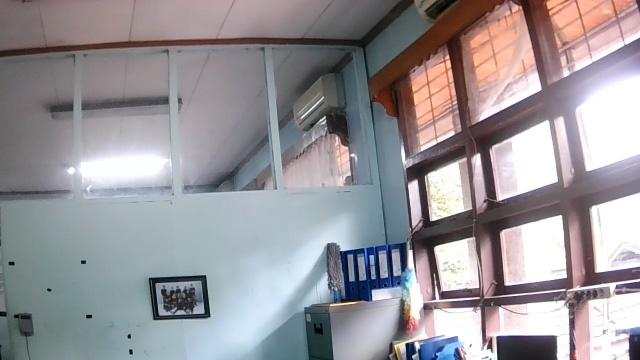AC: (291, 71, 346, 131)
